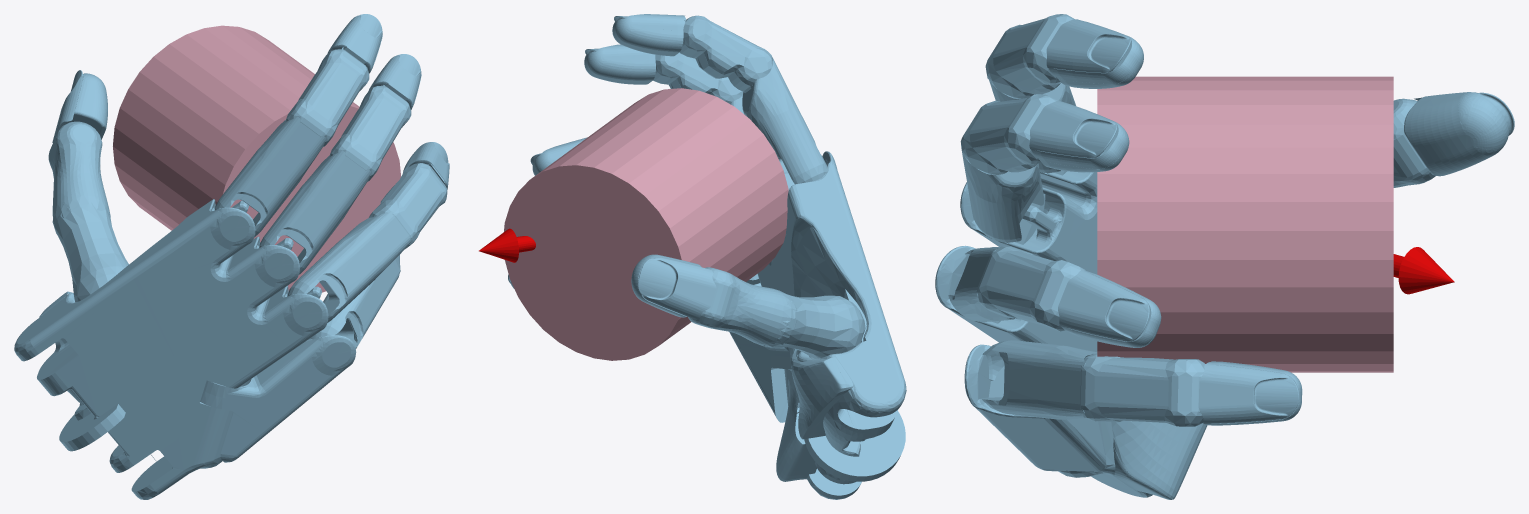
3 views of the same model, side by side, from view 1: azimuth 30°, elevation 25°; view 2: azimuth 150°, elevation 25°; view 3: azimuth 270°, elevation 25° (orthographic). The views are drawn at different scales.
Parts seen in each view (by area): view 1: world, cylinder_medium.stl; view 2: world, cylinder_medium.stl; view 3: world, cylinder_medium.stl.
Part boxes in pixels (box(x1,y1,x2,y2)): world: box(14, 14, 449, 499); cylinder_medium.stl: box(113, 25, 400, 292); world: box(479, 14, 906, 499); cylinder_medium.stl: box(504, 88, 788, 360); world: box(935, 14, 1514, 499); cylinder_medium.stl: box(1097, 76, 1393, 372).
Size of the model in its own units: 0.1754 by 0.1797 by 0.1564.
